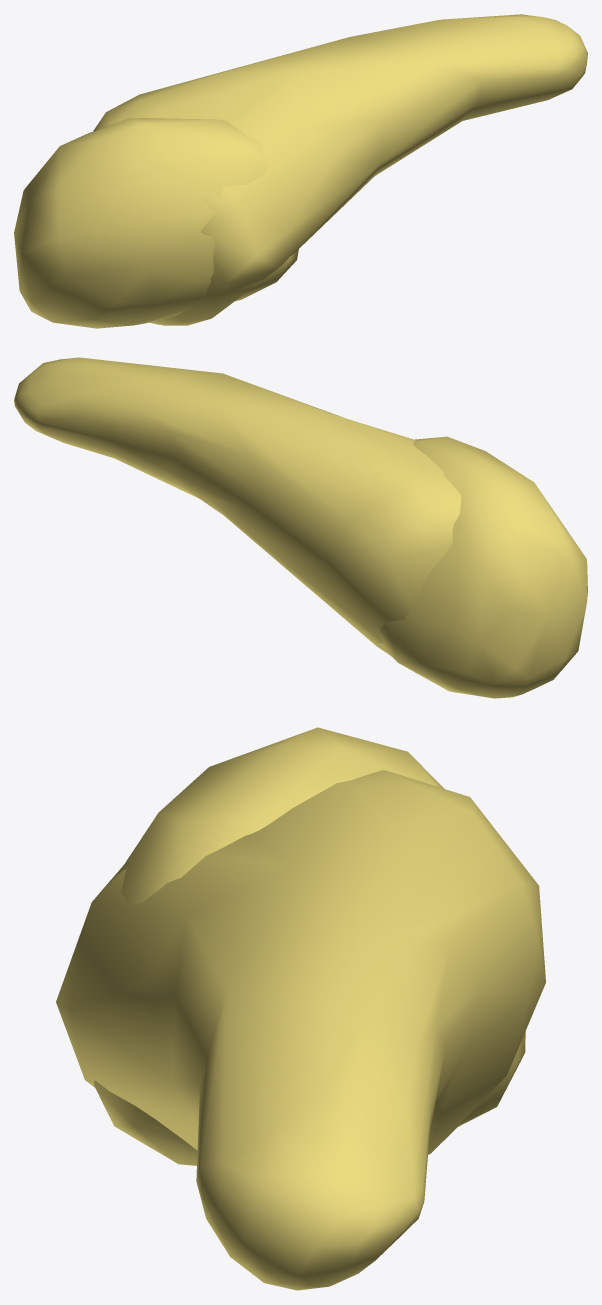
Rendered from superior-colliculus-l.glb.
3 views of the same model, one above another, from view 1: azimuth 30°, elevation 25°; view 2: azimuth 150°, elevation 25°; view 3: azimuth 270°, elevation 25° (orthographic). The views are drawn at different scales.
Parts seen in each view (by area): view 1: Superior colliculus.l; view 2: Superior colliculus.l; view 3: Superior colliculus.l.
Boxes of the visible parts, left/top/right/bottom form: Superior colliculus.l: left=14, top=14, right=587, bottom=328; Superior colliculus.l: left=14, top=357, right=587, bottom=698; Superior colliculus.l: left=56, top=727, right=545, bottom=1290.
Bounding box in the file's own units: 0.017 × 0.00639 × 0.00647.
